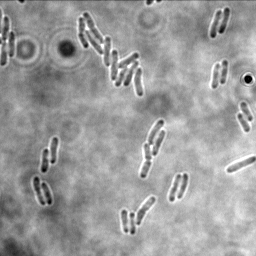Dividing: (134, 194, 158, 227), (138, 142, 154, 180), (0, 15, 11, 67), (167, 172, 183, 203), (32, 175, 46, 208)
Microcolony: (76, 10, 145, 99)
Rod: (225, 155, 255, 174), (146, 118, 166, 146), (150, 128, 167, 157), (208, 8, 223, 39), (216, 7, 232, 34), (175, 172, 190, 200), (238, 100, 254, 123), (236, 111, 251, 134), (41, 180, 54, 206), (210, 61, 222, 89), (218, 58, 230, 85), (39, 147, 51, 174), (49, 136, 60, 164), (119, 208, 130, 235), (7, 30, 17, 58), (128, 211, 137, 237)
